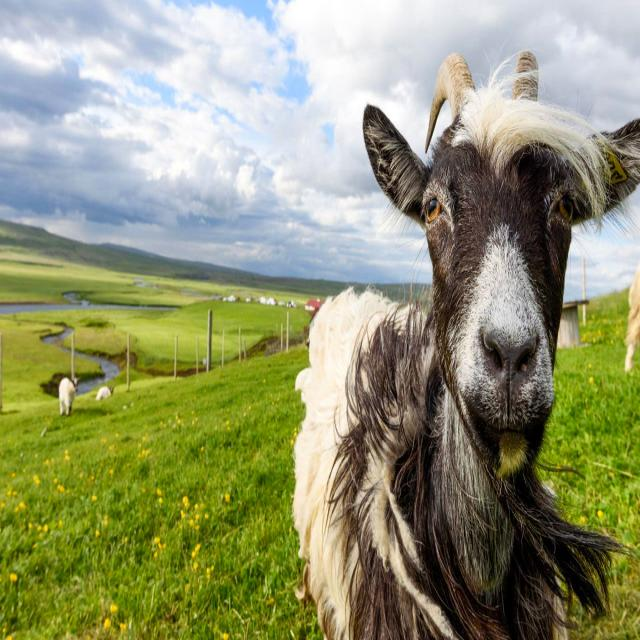goat: (295, 52, 640, 639)
